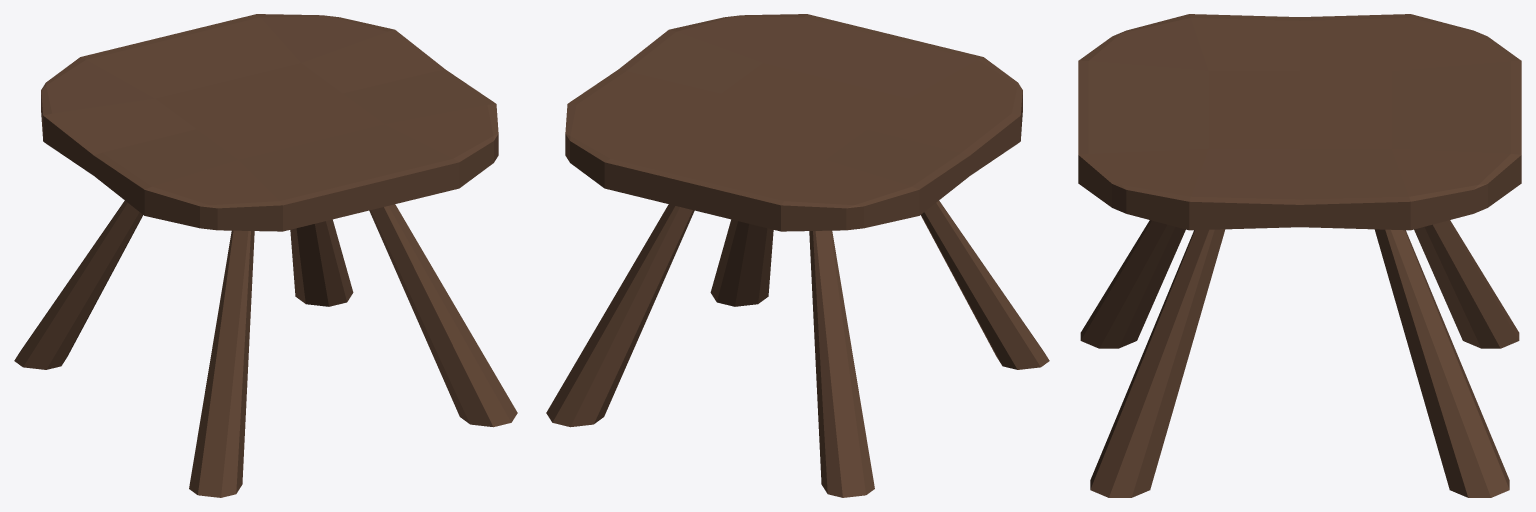
Rendered from Stool.fbx.
The picture shows the model from 3 angles, left to right: view 1: azimuth 30°, elevation 25°; view 2: azimuth 150°, elevation 25°; view 3: azimuth 270°, elevation 25°; orthographic projection. The views are drawn at different scales.
Parts seen in each view (by area): view 1: Stool.014; view 2: Stool.014; view 3: Stool.014.
Part boxes in pixels (<box>): Stool.014: <box>14,14,517,497</box>; Stool.014: <box>546,14,1049,497</box>; Stool.014: <box>1078,14,1521,497</box>.
Bounding box in the file's own units: 47.64 × 36.23 × 47.51.
